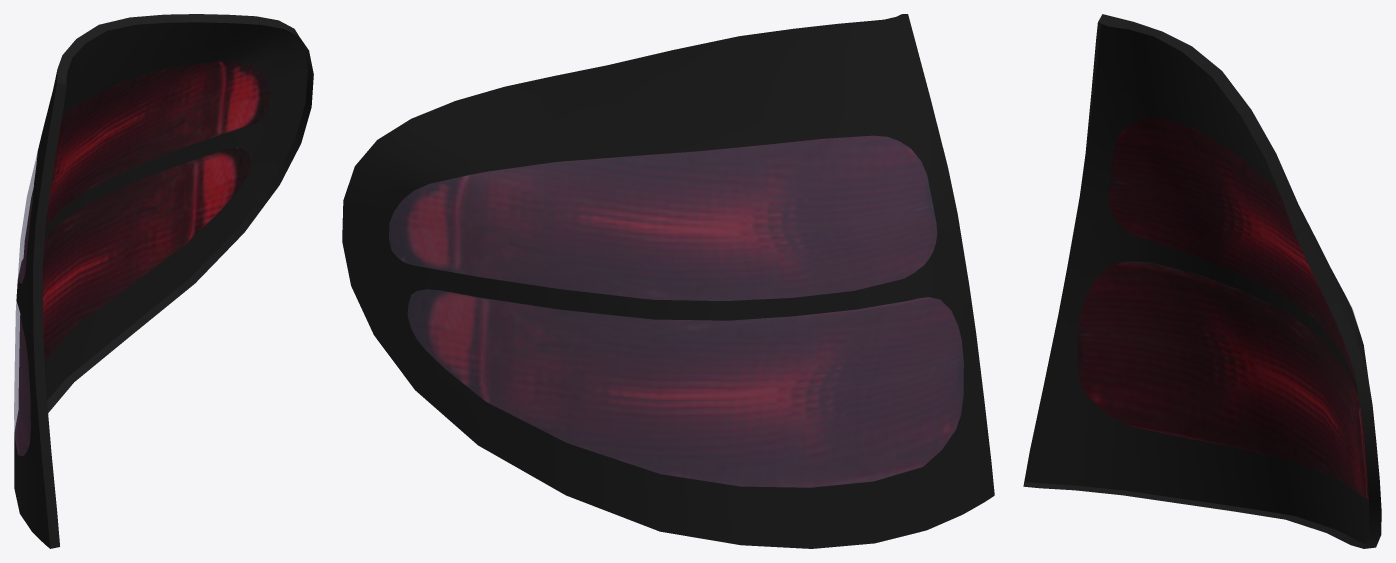
The picture shows the model from 3 angles, left to right: view 1: azimuth 30°, elevation 25°; view 2: azimuth 150°, elevation 25°; view 3: azimuth 270°, elevation 25°; orthographic projection. The views are drawn at different scales.
Visible parts, largest first — view 1: P353_20_541C_L_P353_20_541C_L_2_D, P353_20_541C_L_1_N_P353_20_541C_L, P353_20_541C_L_P353_20_541C_L_3_DTaSI, P353_20_541C_L_P353_20_541C_L_4_DTaSI; view 2: P353_20_541C_L_1_N_P353_20_541C_L, P353_20_541C_L_P353_20_541C_L_2_D, P353_20_541C_L_P353_20_541C_L_3_DTaSI, P353_20_541C_L_P353_20_541C_L_4_DTaSI; view 3: P353_20_541C_L_1_N_P353_20_541C_L, P353_20_541C_L_P353_20_541C_L_2_D.
Part boxes in pixels (left/top/right/bottom): P353_20_541C_L_P353_20_541C_L_2_D: left=14, top=14, right=313, bottom=548; P353_20_541C_L_1_N_P353_20_541C_L: left=14, top=61, right=269, bottom=455; P353_20_541C_L_P353_20_541C_L_3_DTaSI: left=14, top=301, right=30, bottom=455; P353_20_541C_L_P353_20_541C_L_4_DTaSI: left=17, top=152, right=37, bottom=283; P353_20_541C_L_1_N_P353_20_541C_L: left=389, top=135, right=963, bottom=487; P353_20_541C_L_P353_20_541C_L_2_D: left=342, top=14, right=994, bottom=548; P353_20_541C_L_P353_20_541C_L_3_DTaSI: left=408, top=289, right=963, bottom=487; P353_20_541C_L_P353_20_541C_L_4_DTaSI: left=389, top=136, right=936, bottom=300; P353_20_541C_L_1_N_P353_20_541C_L: left=1077, top=117, right=1368, bottom=499; P353_20_541C_L_P353_20_541C_L_2_D: left=1023, top=14, right=1381, bottom=548.
Size of the model in its own units: 21.89 by 22.02 by 14.53.
